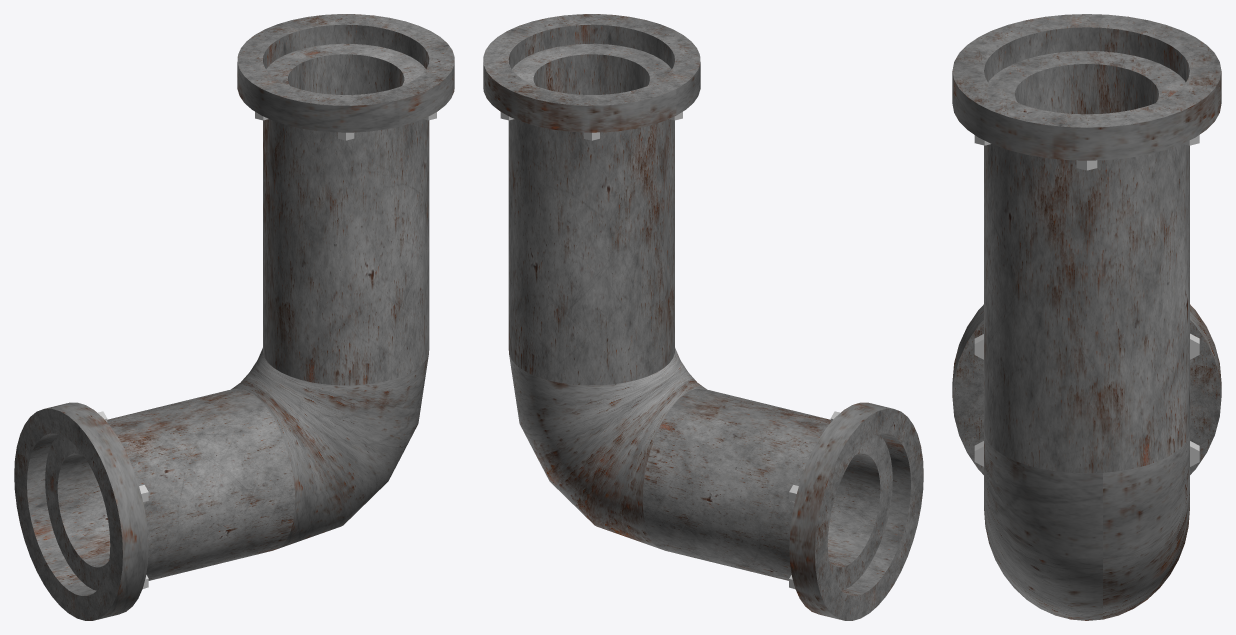
The model's file is Bent_Pipe.fbx.
The picture shows the model from 3 angles, left to right: view 1: azimuth 30°, elevation 25°; view 2: azimuth 150°, elevation 25°; view 3: azimuth 270°, elevation 25°; orthographic projection. The views are drawn at different scales.
Visible parts, largest first — view 1: pCylinder16; view 2: pCylinder16; view 3: pCylinder16.
Part boxes in pixels (<box>): pCylinder16: <box>14,14,454,620</box>; pCylinder16: <box>483,14,923,620</box>; pCylinder16: <box>952,14,1221,620</box>.
Bounding box in the file's own units: 2.01 × 2.51 × 1.02.
